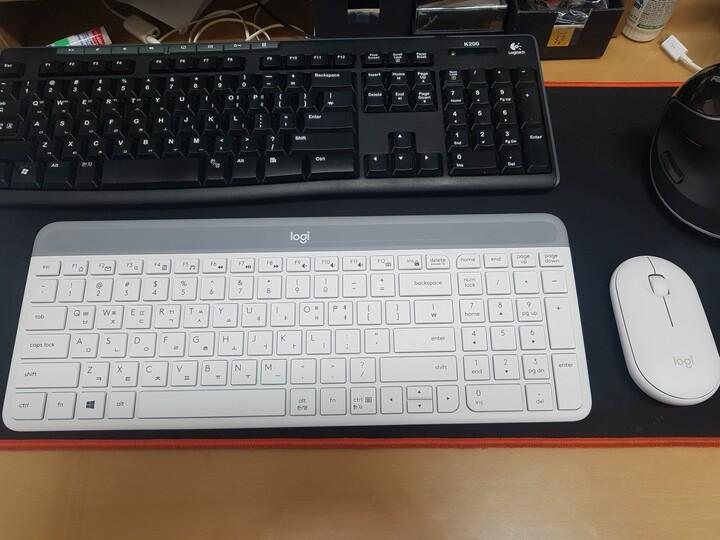keyboard: (1, 214, 592, 432), (0, 32, 560, 207)
mouse: (608, 254, 719, 406)
